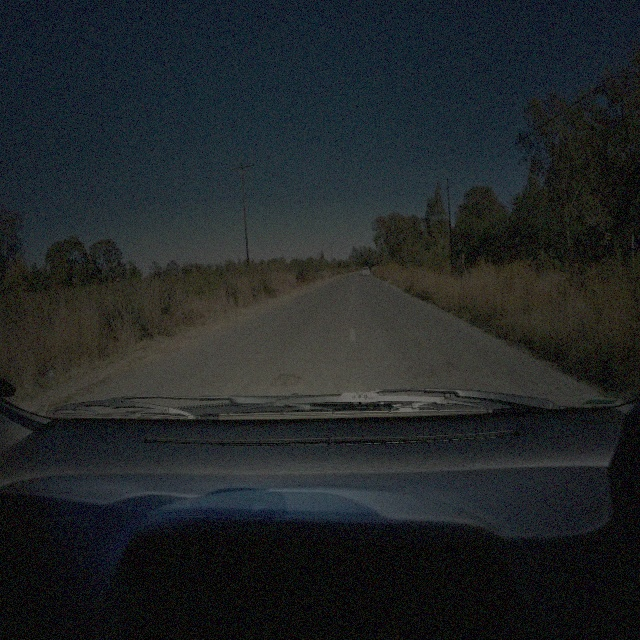pothole: (270, 368, 300, 389)
